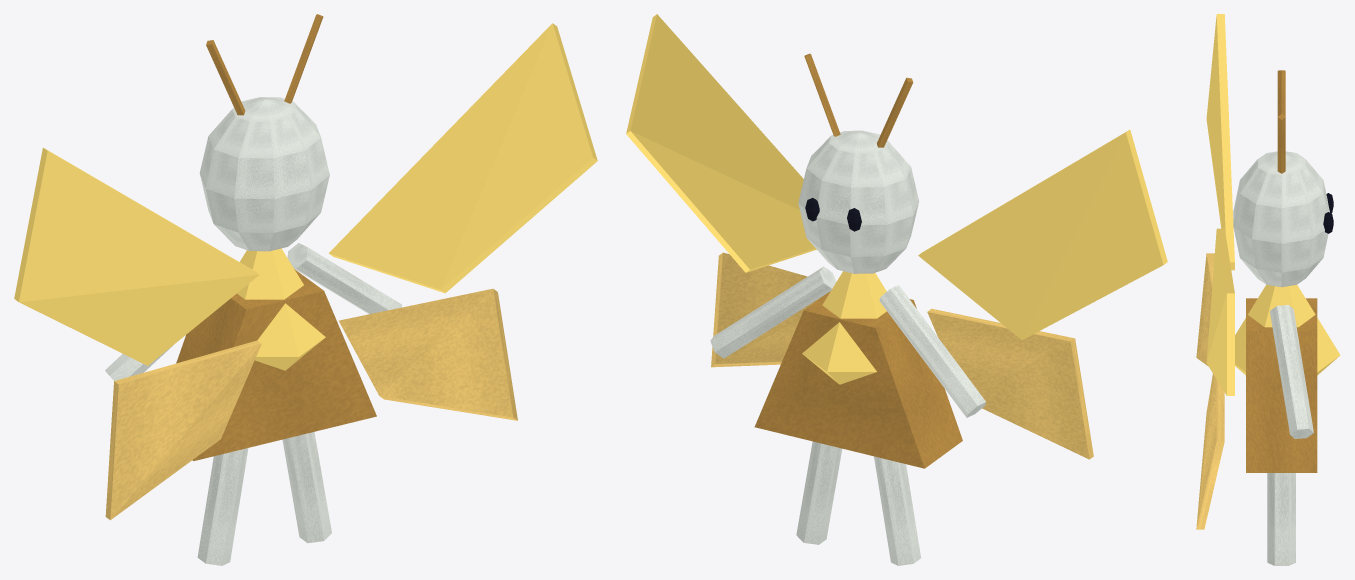
The model's file is fairy.glb.
3 views of the same model, side by side, from view 1: azimuth 30°, elevation 25°; view 2: azimuth 150°, elevation 25°; view 3: azimuth 270°, elevation 25° (orthographic). The views are drawn at different scales.
Visible parts, largest first — view 1: fairy; view 2: fairy; view 3: fairy.
Boxes of the visible parts, x1,y1,x2,y2 form: fairy: (14, 14, 597, 565); fairy: (626, 14, 1167, 565); fairy: (1196, 14, 1340, 565).
Bounding box in the file's own units: 0.284 × 0.2448 × 0.071.
Materials: 1 (1 with a texture image).
